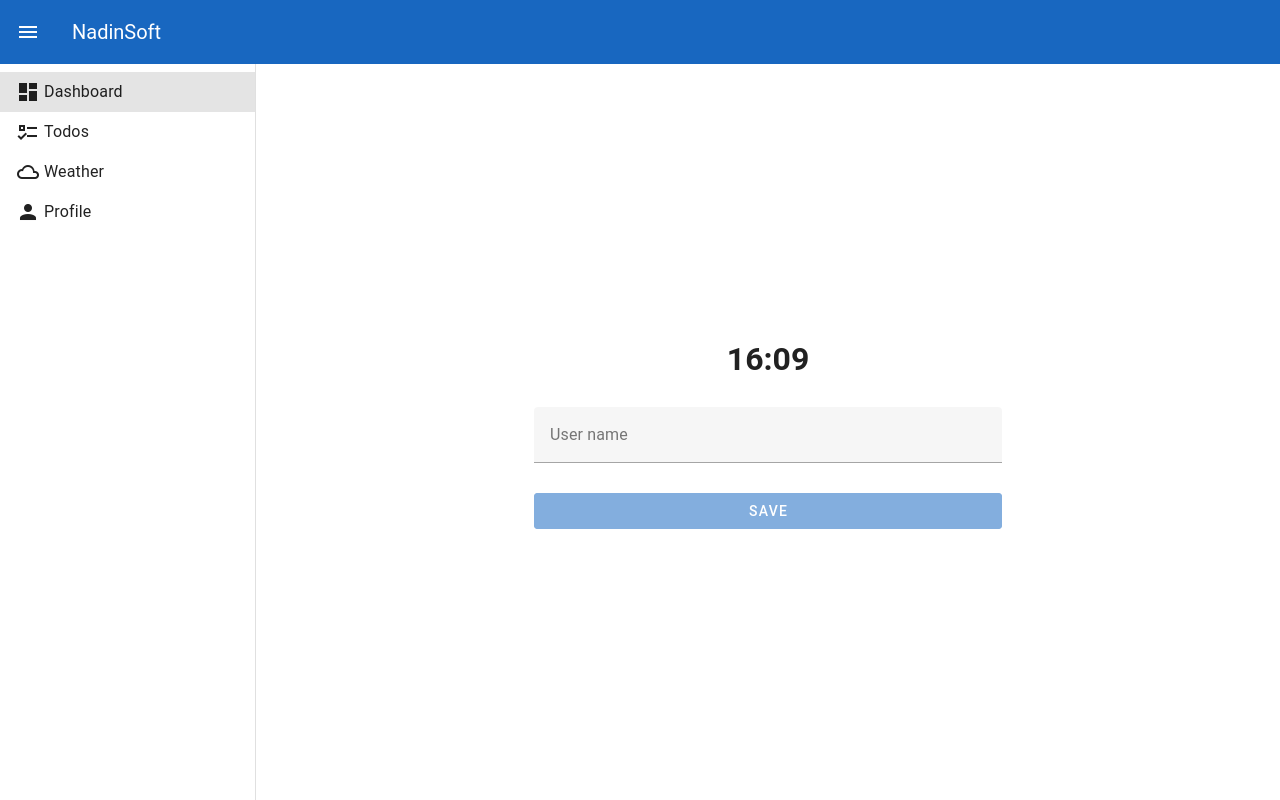
Test: Index Page › should display the correct greeting after saving a name
# Type the name and save
Step 1. Type "Mahdi" into the field labelled "User name" → (768, 435), box [534,407,1002,463]
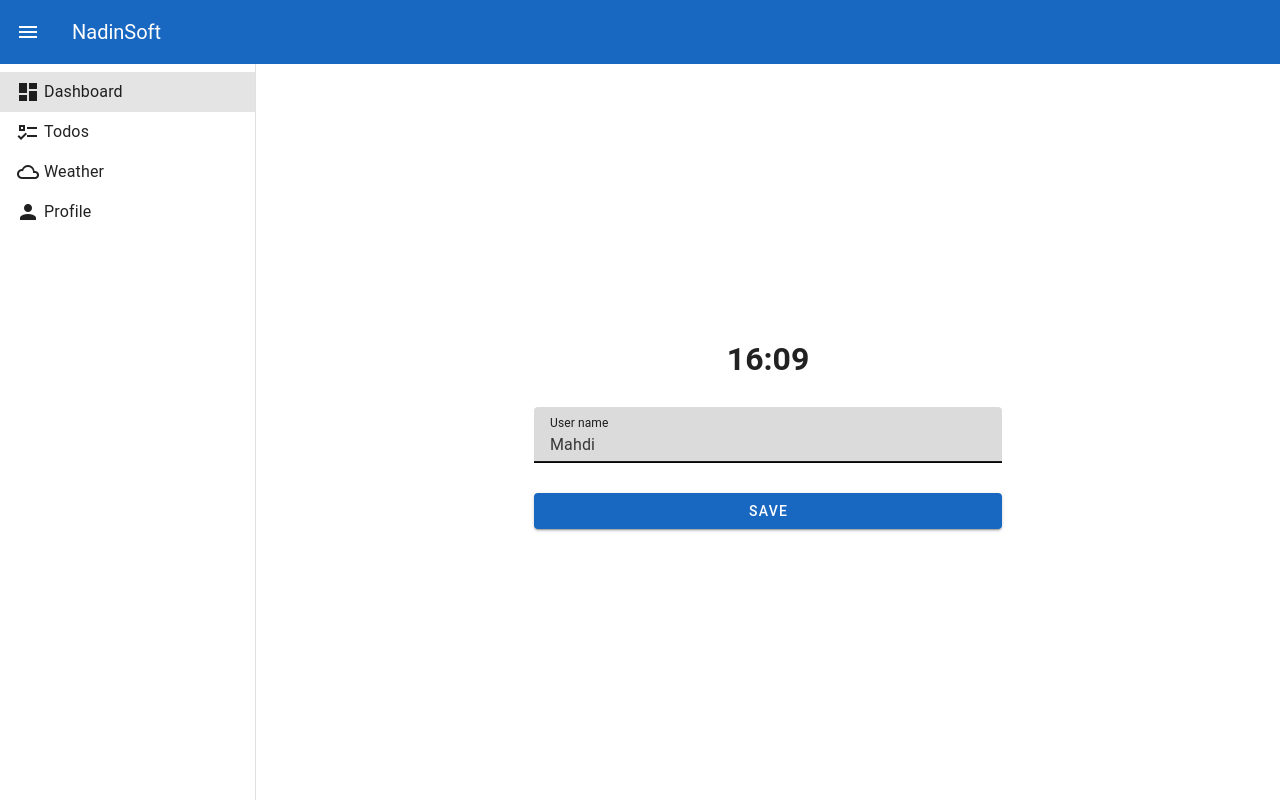
Step 2. Click the button "Save" → (768, 511), box [534,493,1002,529]
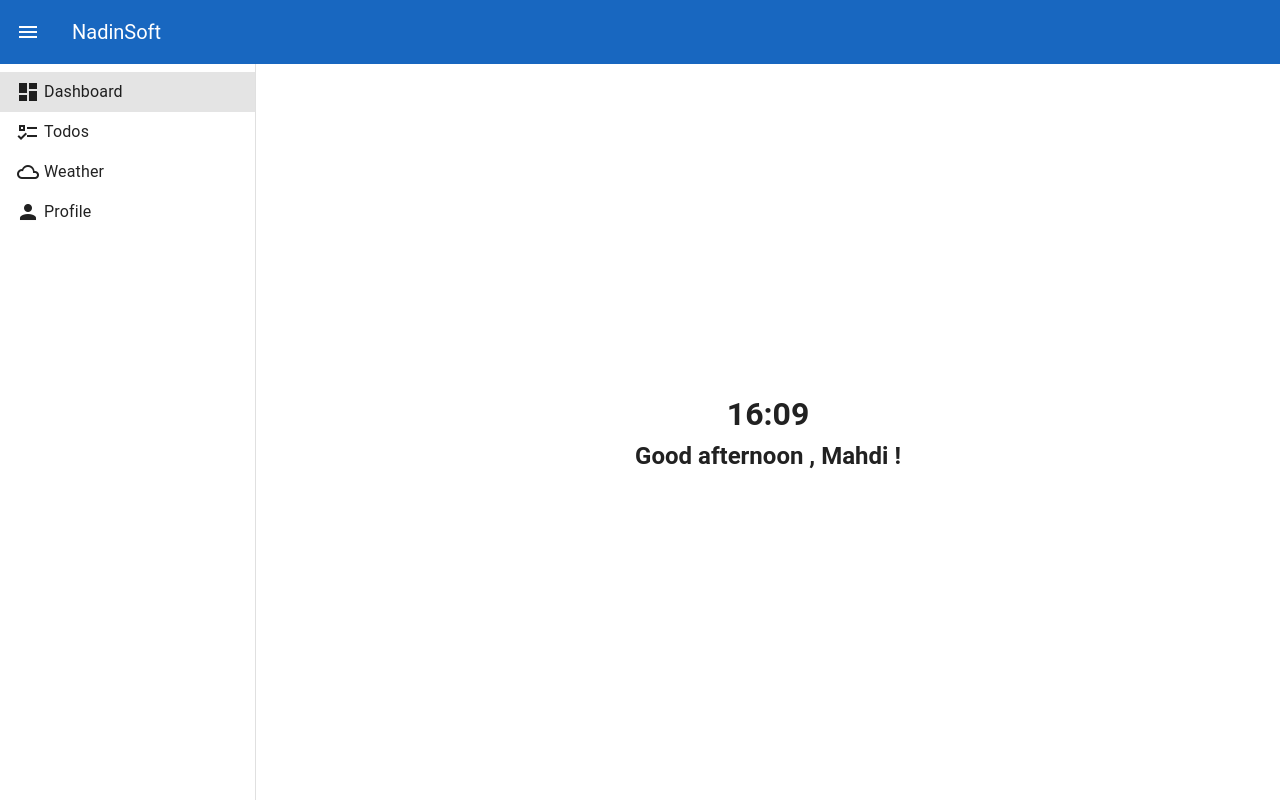
Expected: the heading "Good afternoon , Mahdi !" is shown, [635,438,901,474]
